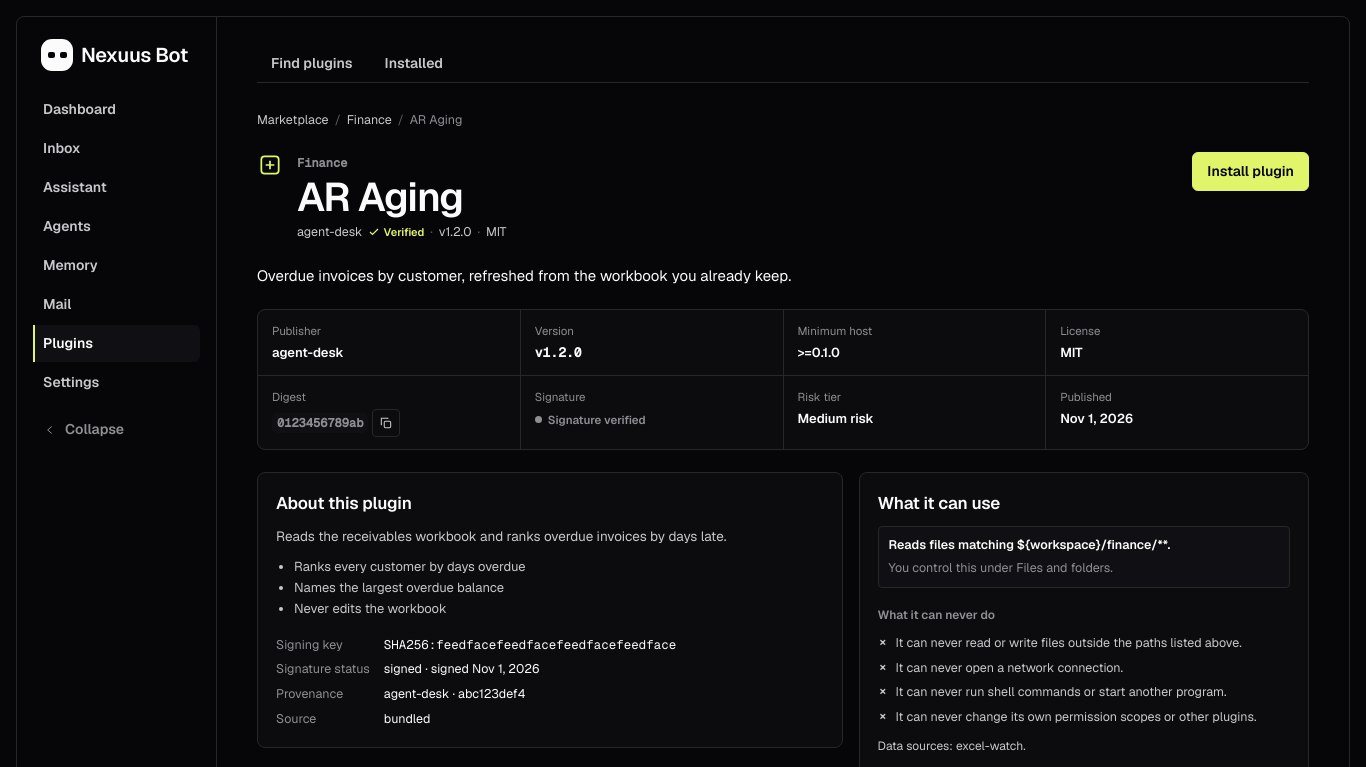
Test: the digest copy control › offers the full digest in a focused selected field when the clipboard refuses
This screenshot has width=1366, height=767.
Click the button named "Copy digest".
click(386, 423)  # box [372,409,400,437]
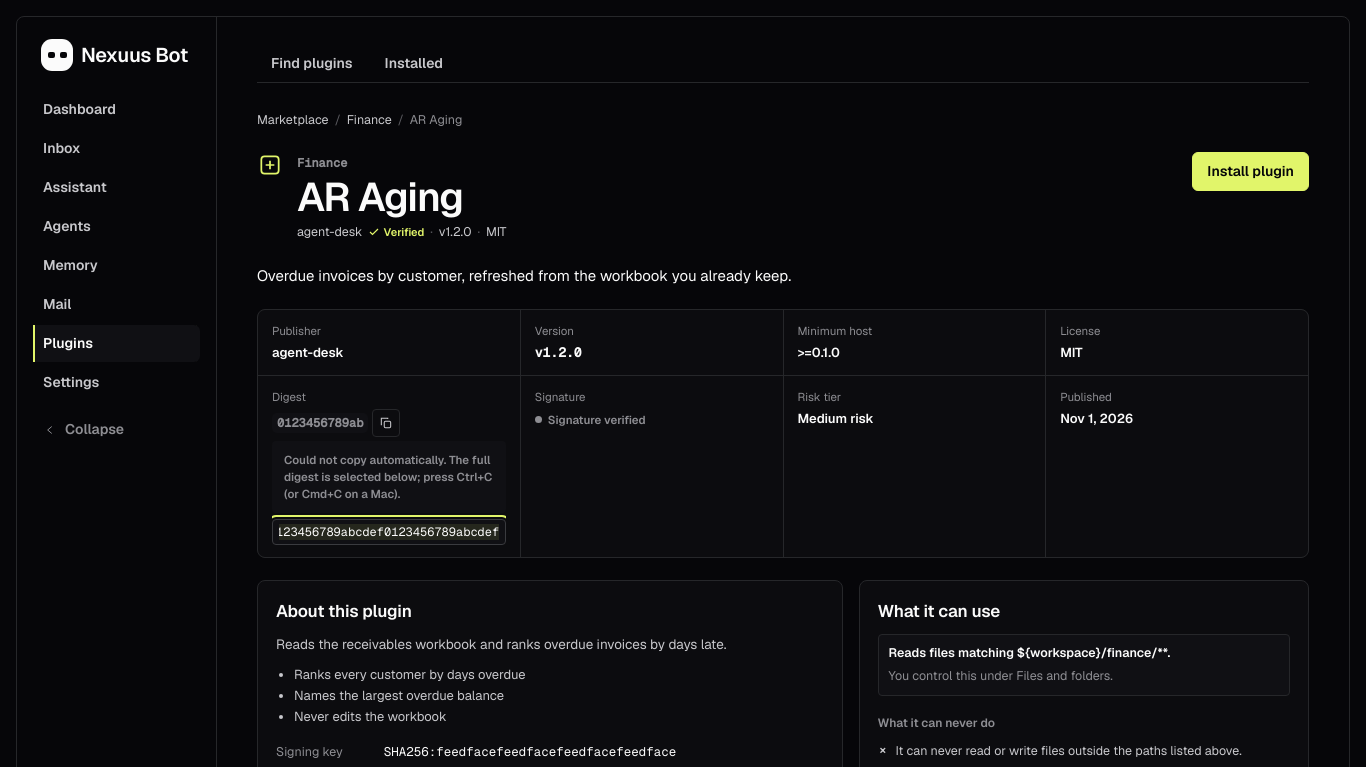
expect the text "Could not copy automatically. The full digest is selected below; press Ctrl+C (or Cmd+C on a Mac)." is shown: met, box [284,452,492,501]
expect the field named "Full digest" holds "sha256:0123456789abcdef0123456789abcdef0123456789abcdef0123456789abcdef": met, box [272,518,506,544]
Click the button named "Copy digest".
click(386, 423)  # box [372,409,400,437]
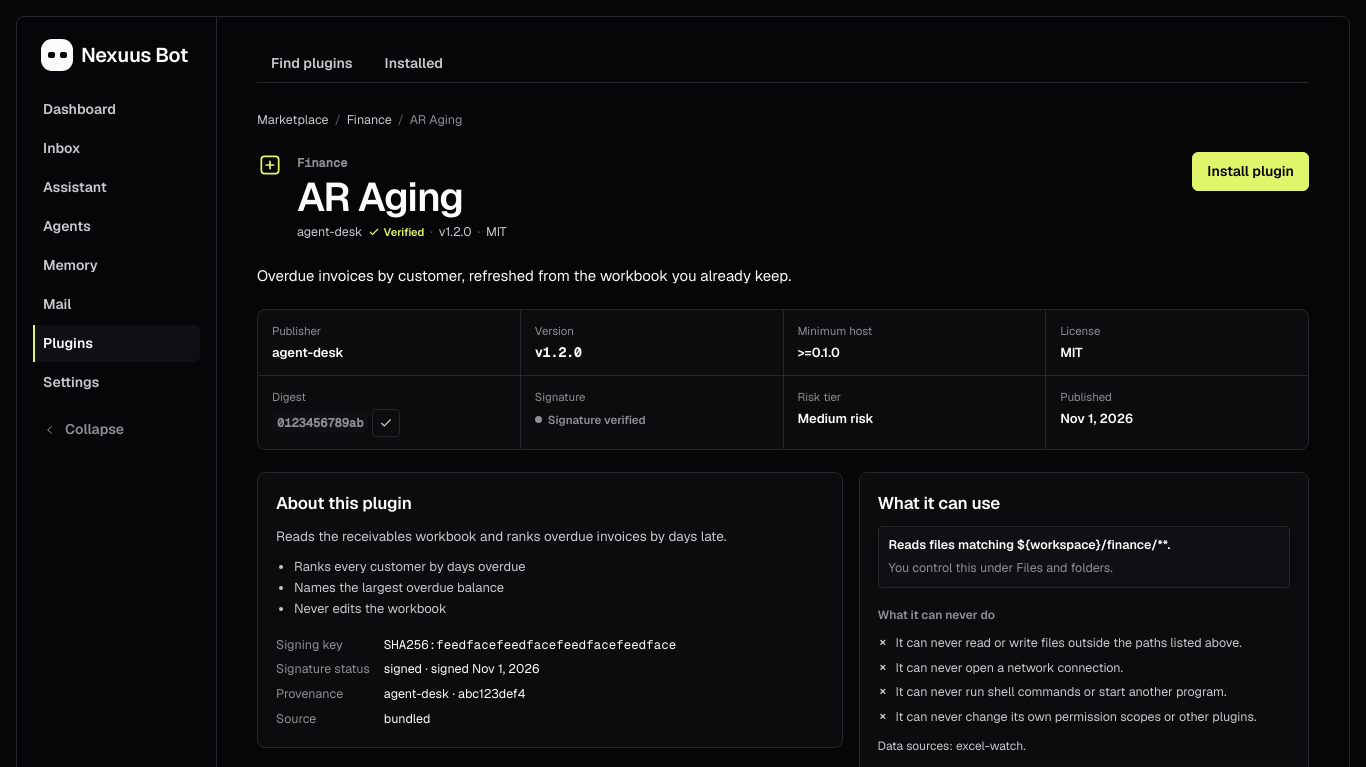
expect the text "Could not copy automatically. The full digest is selected below; press Ctrl+C (or Cmd+C on a Mac)." is gone: met
expect the message labelled "full digest" is gone: met
expect the button named "Digest copied" is shown: met, box [372,409,400,437]
